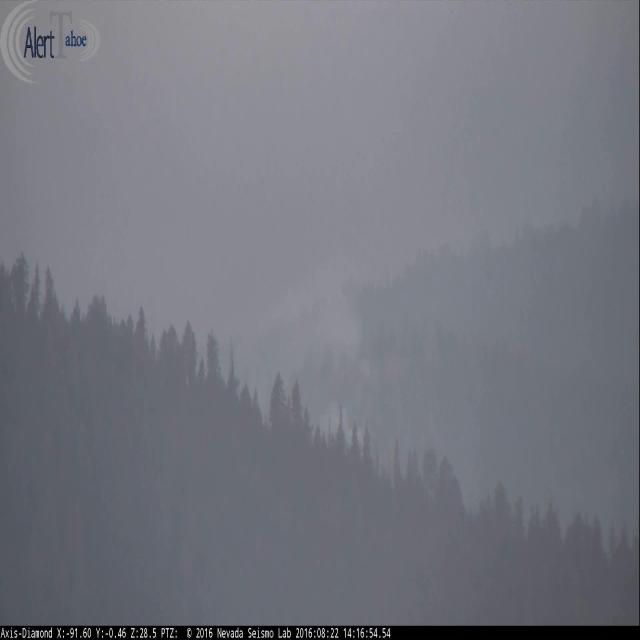smoke: (245, 266, 379, 456)
